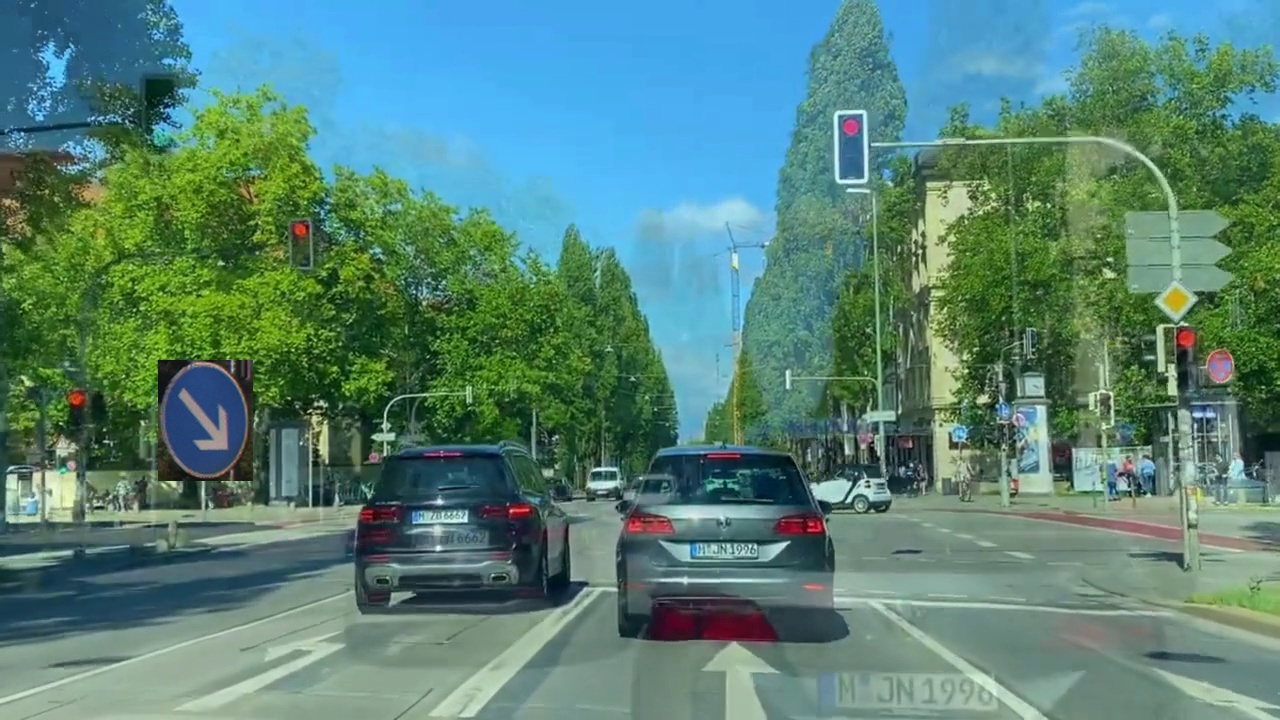Keep right: (158, 360, 253, 481)
